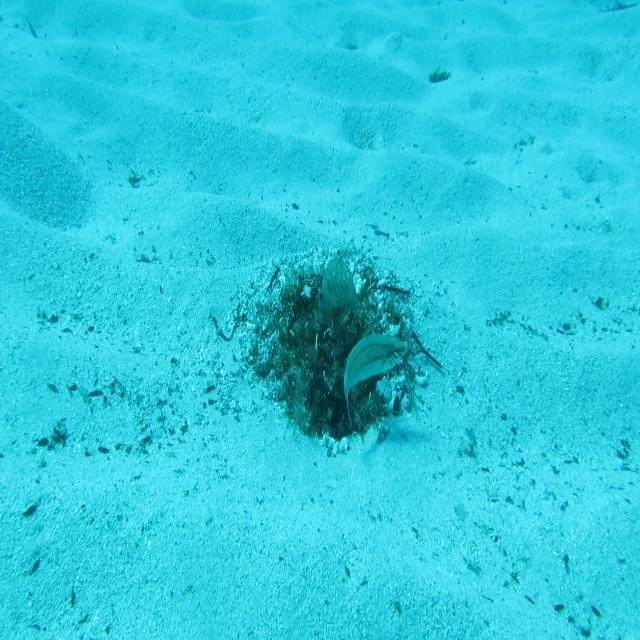NIP_CORE: (317, 248, 361, 317)
core_nest: (304, 289, 358, 343)
female: (342, 331, 411, 430)
nest: (228, 234, 434, 469)
vegetation: (427, 69, 453, 85)
